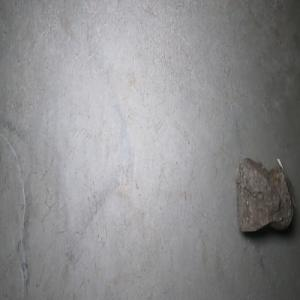Rock: (234, 153, 295, 233)
